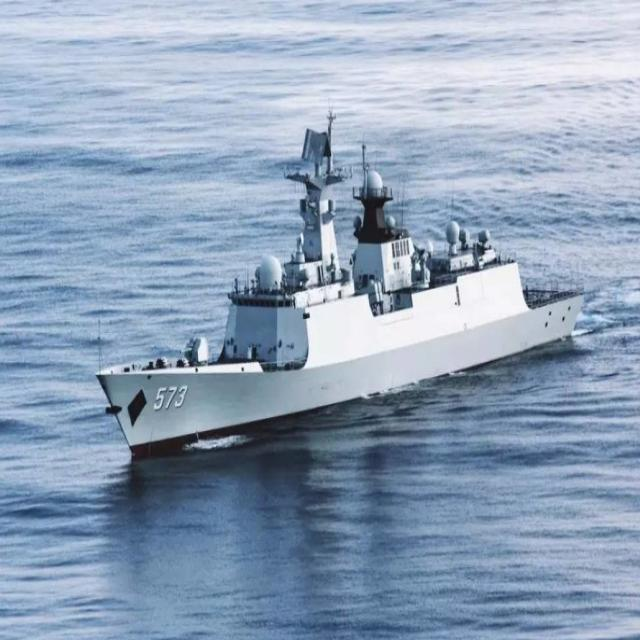navalvessels: (76, 100, 609, 463)
